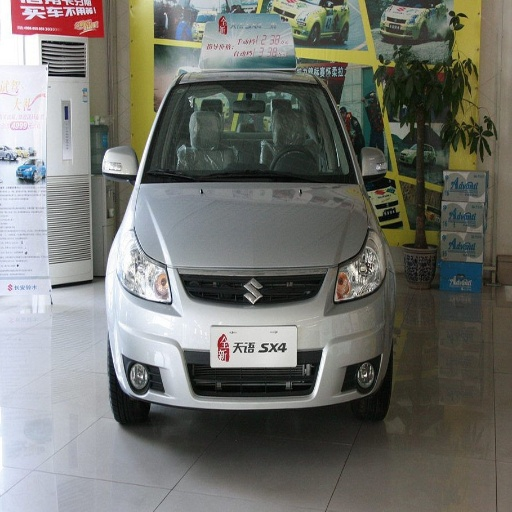front_bumper: (113, 265, 390, 403)
front_right_light: (114, 231, 172, 303)
hood: (137, 183, 368, 267)
